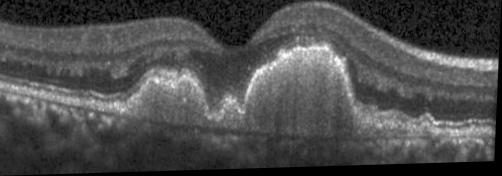retinal_drusen: (245, 51, 355, 140), (131, 79, 208, 128), (217, 104, 245, 132), (357, 110, 376, 132), (381, 118, 407, 134), (79, 98, 98, 111), (464, 128, 479, 138), (421, 124, 431, 138), (484, 129, 494, 139)
